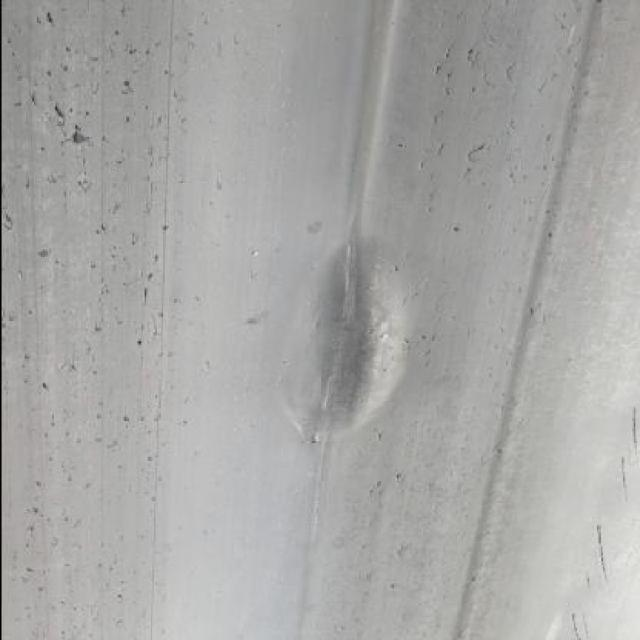Impact Damage: (268, 229, 421, 446)
Puncture: (40, 8, 60, 30), (50, 105, 70, 122), (139, 286, 153, 306), (464, 44, 480, 60), (134, 336, 148, 354), (119, 78, 134, 94), (432, 61, 446, 76), (450, 222, 464, 236), (544, 228, 558, 242), (30, 502, 43, 517), (38, 380, 50, 395), (388, 580, 399, 596), (120, 410, 133, 423), (392, 263, 403, 278), (392, 471, 405, 483), (160, 222, 172, 233), (112, 27, 122, 37)
